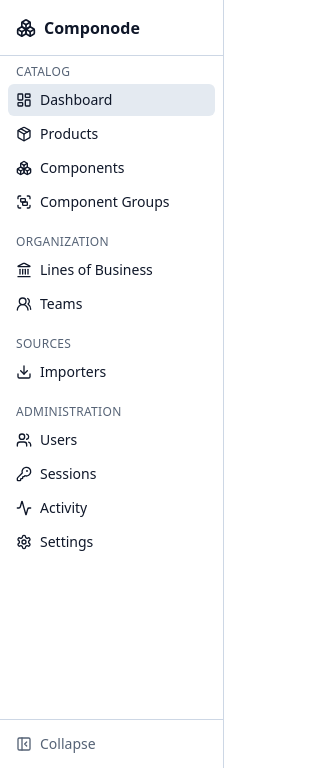
it: Sidebar › collapses to icons and persists the choice in sessionStorage
The width and height of the screenshot is (320, 768).
Click the button with aria-label "collapse sidebar".
click(112, 744)  # box [8,728,215,760]
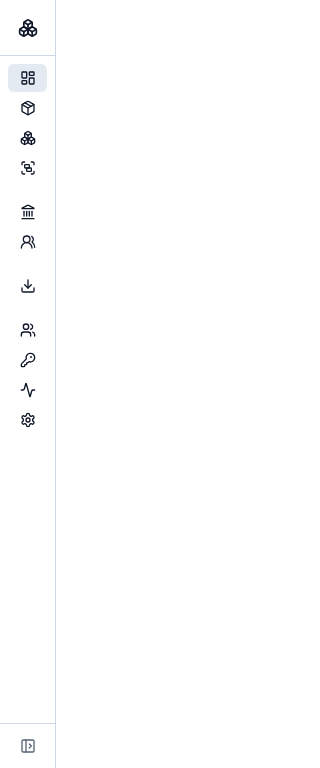
Expected: the text "Catalog" is gone
